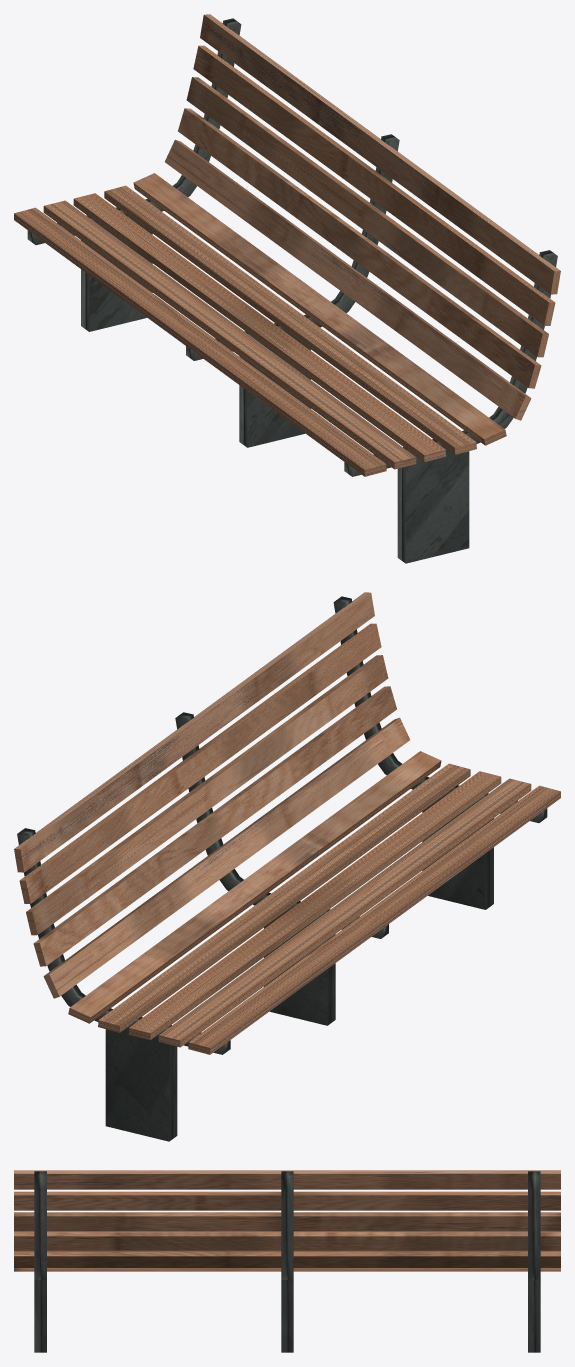
File: banco1.glb
The picture shows the model from 3 angles, top to bottom: view 1: azimuth 30°, elevation 25°; view 2: azimuth 150°, elevation 25°; view 3: azimuth 270°, elevation 25°; orthographic projection. The views are drawn at different scales.
Parts seen in each view (by area): view 1: patas; view 2: patas; view 3: patas.
Boxes of the visible parts, x1,y1,x2,y2 form: patas: (14,14,560,563); patas: (14,592,560,1141); patas: (14,1170,560,1352).
Bounding box in the file's own units: 0.6019 × 0.7554 × 1.77.
2 materials, 2 textured.
